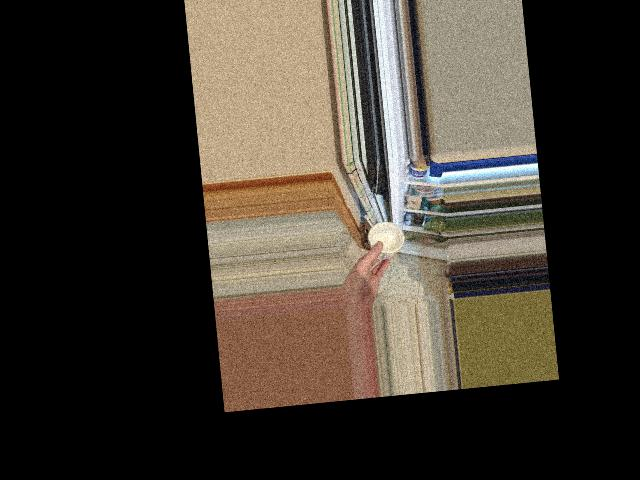cotage: (363, 218, 402, 264)
